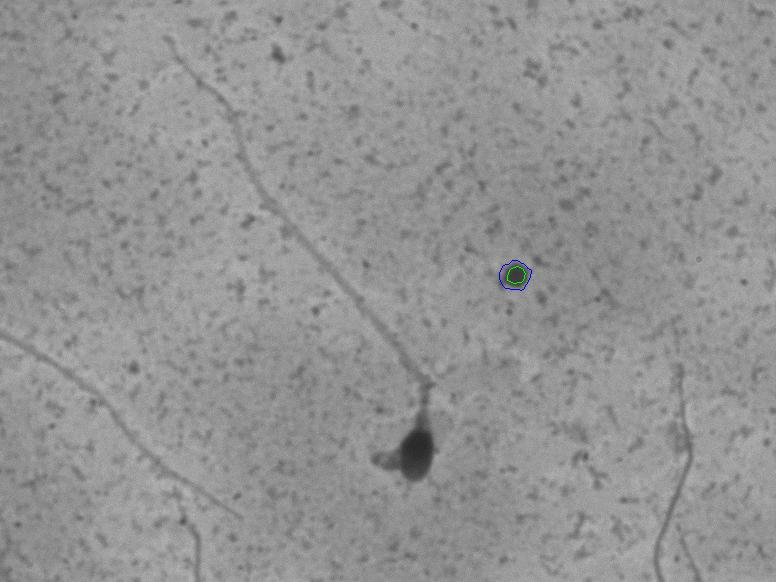Normal: (148, 25, 449, 498)
